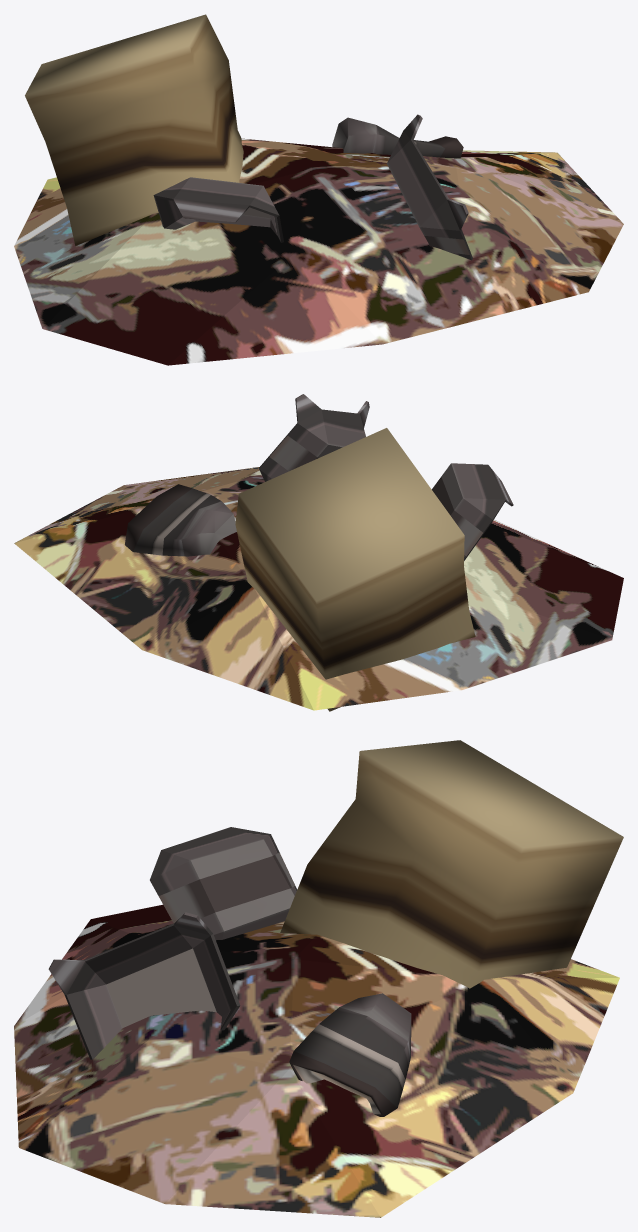
The model's file is Trash_pile_005.glb.
3 views of the same model, one above another, from view 1: azimuth 30°, elevation 25°; view 2: azimuth 150°, elevation 25°; view 3: azimuth 270°, elevation 25° (orthographic). The views are drawn at different scales.
Parts seen in each view (by area): view 1: Trash_pile_005; view 2: Trash_pile_005; view 3: Trash_pile_005.
Part boxes in pixels (x1,y1,x2,y2): Trash_pile_005: (14, 14, 623, 365); Trash_pile_005: (14, 394, 623, 711); Trash_pile_005: (14, 740, 623, 1217).
Bounding box in the file's own units: 0.8086 × 0.3184 × 0.6281.
Materials: 1 (1 with a texture image).
